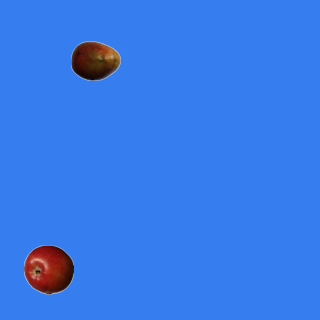Apple Braeburn: (23, 244, 73, 294)
Mango Red: (70, 35, 120, 85)
